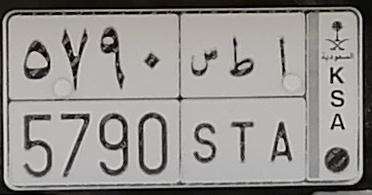0: (136, 51, 171, 176)
5: (21, 39, 54, 178)
7: (59, 27, 91, 178)
9: (97, 25, 132, 177)
A: (270, 35, 295, 164)
S: (190, 47, 218, 164)
T: (228, 36, 256, 163)
